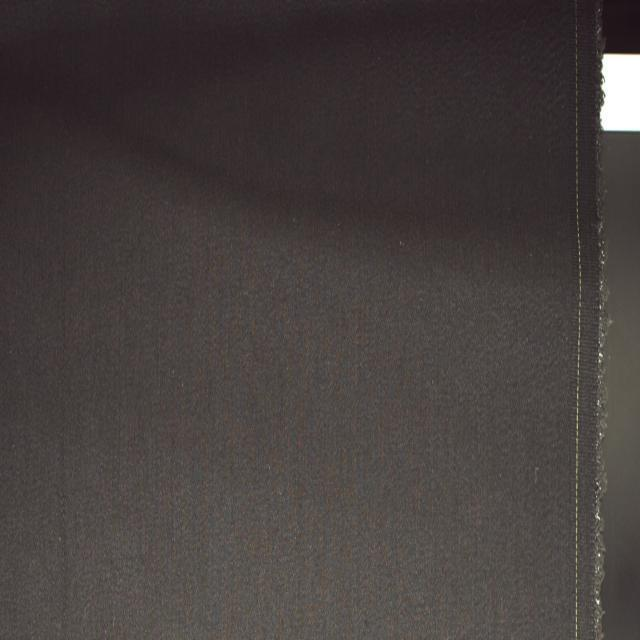pulled_or_thick_thread: (570, 0, 586, 639)
